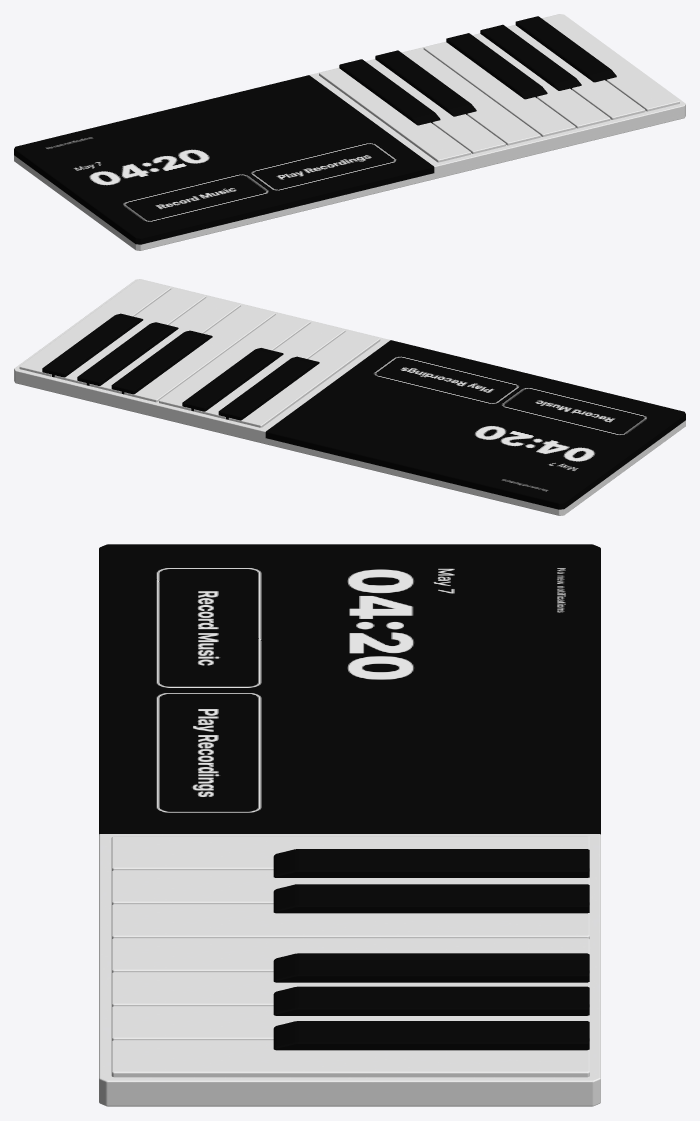
Rendered from MIDI Product Piano - R1.gltf.
3 views of the same model, one above another, from view 1: azimuth 30°, elevation 25°; view 2: azimuth 150°, elevation 25°; view 3: azimuth 270°, elevation 25° (orthographic). The views are drawn at different scales.
Visible parts, largest first — view 1: Board.001, WhiteKeySlim.F, WhiteKeySlim.C, WhiteKeySlim.E, WhiteKeySlim.B, WhiteKeySlim.D, WhiteKeySlim.A, BlackKey.F#, BlackKey.G#, BlackKey.D#, BlackKey.A#, BlackKey.C# (+1 smaller); view 2: Board.001, WhiteKeySlim.F, WhiteKeySlim.C, WhiteKeySlim.E, WhiteKeySlim.B, WhiteKeySlim.D, WhiteKeySlim.A, WhiteKeySlim.G, BlackKey.F#, BlackKey.G#, BlackKey.D#, BlackKey.C# (+1 smaller); view 3: Board.001, WhiteKeySlim.B, WhiteKeySlim.E, WhiteKeySlim.F, WhiteKeySlim.C, BlackKey.A#, BlackKey.D#, BlackKey.F#, BlackKey.G#, BlackKey.C#, WhiteKeySlim.D, WhiteKeySlim.A (+1 smaller).
Part boxes in pixels (left/top/right/bottom): Board.001: left=14, top=14, right=685, bottom=250; WhiteKeySlim.F: left=423, top=42, right=575, bottom=136; WhiteKeySlim.C: left=319, top=68, right=470, bottom=162; WhiteKeySlim.E: left=402, top=48, right=540, bottom=145; WhiteKeySlim.B: left=542, top=14, right=679, bottom=111; WhiteKeySlim.D: left=366, top=59, right=505, bottom=153; WhiteKeySlim.A: left=507, top=25, right=645, bottom=119; BlackKey.F#: left=446, top=33, right=547, bottom=99; BlackKey.G#: left=480, top=24, right=581, bottom=90; BlackKey.D#: left=375, top=50, right=476, bottom=116; BlackKey.A#: left=515, top=16, right=616, bottom=82; BlackKey.C#: left=339, top=59, right=440, bottom=125; Board.001: left=14, top=279, right=685, bottom=515; WhiteKeySlim.F: left=124, top=305, right=275, bottom=402; WhiteKeySlim.C: left=228, top=330, right=380, bottom=427; WhiteKeySlim.E: left=159, top=313, right=310, bottom=410; WhiteKeySlim.B: left=19, top=279, right=171, bottom=376; WhiteKeySlim.D: left=194, top=322, right=345, bottom=419; WhiteKeySlim.A: left=54, top=288, right=206, bottom=385; WhiteKeySlim.G: left=89, top=296, right=240, bottom=393; BlackKey.F#: left=111, top=330, right=212, bottom=394; BlackKey.G#: left=77, top=322, right=178, bottom=385; BlackKey.D#: left=182, top=348, right=283, bottom=411; BlackKey.C#: left=218, top=356, right=319, bottom=420; Board.001: left=99, top=544, right=600, bottom=1106; WhiteKeySlim.B: left=111, top=1040, right=589, bottom=1077; WhiteKeySlim.E: left=111, top=904, right=589, bottom=939; WhiteKeySlim.F: left=111, top=938, right=589, bottom=973; WhiteKeySlim.C: left=111, top=836, right=589, bottom=871; BlackKey.A#: left=273, top=1021, right=589, bottom=1050; BlackKey.D#: left=273, top=884, right=589, bottom=913; BlackKey.F#: left=273, top=953, right=589, bottom=982; BlackKey.G#: left=273, top=986, right=589, bottom=1015; BlackKey.C#: left=273, top=849, right=589, bottom=877; WhiteKeySlim.D: left=111, top=870, right=589, bottom=905; WhiteKeySlim.A: left=111, top=1006, right=589, bottom=1041.
Size of the model in its own units: 16.98 by 0.5561 by 6.7.
3 materials, 2 textured.
